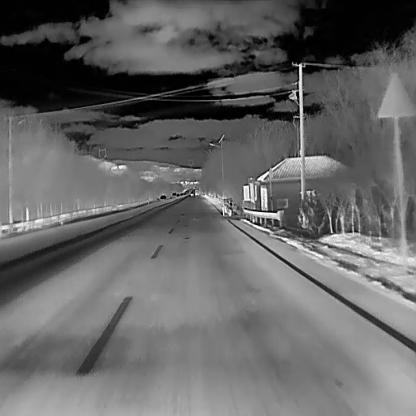bus: (194, 188, 199, 197)
car: (159, 193, 166, 202), (171, 191, 176, 197), (190, 192, 193, 196)
